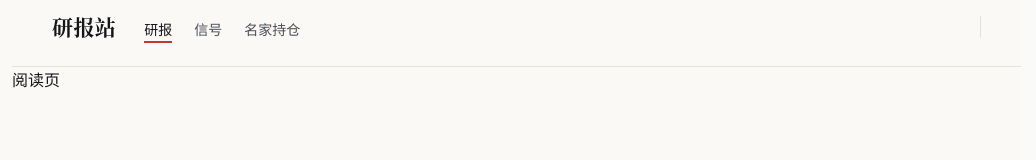
Test: 阅读页归在「研报」栏目下,点它回到列表
Click the link "研报".
click(158, 31)  # box [144,19,172,43]
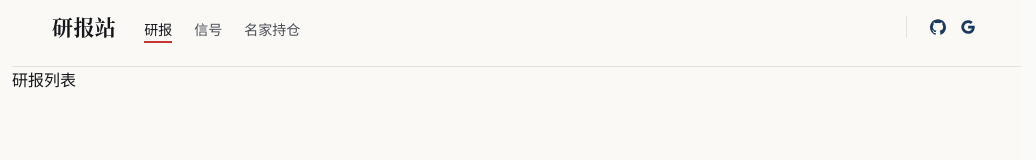
Now the text "研报列表" is shown, box [12,70,76,90]
